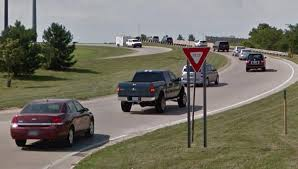yield: (179, 45, 212, 71)
